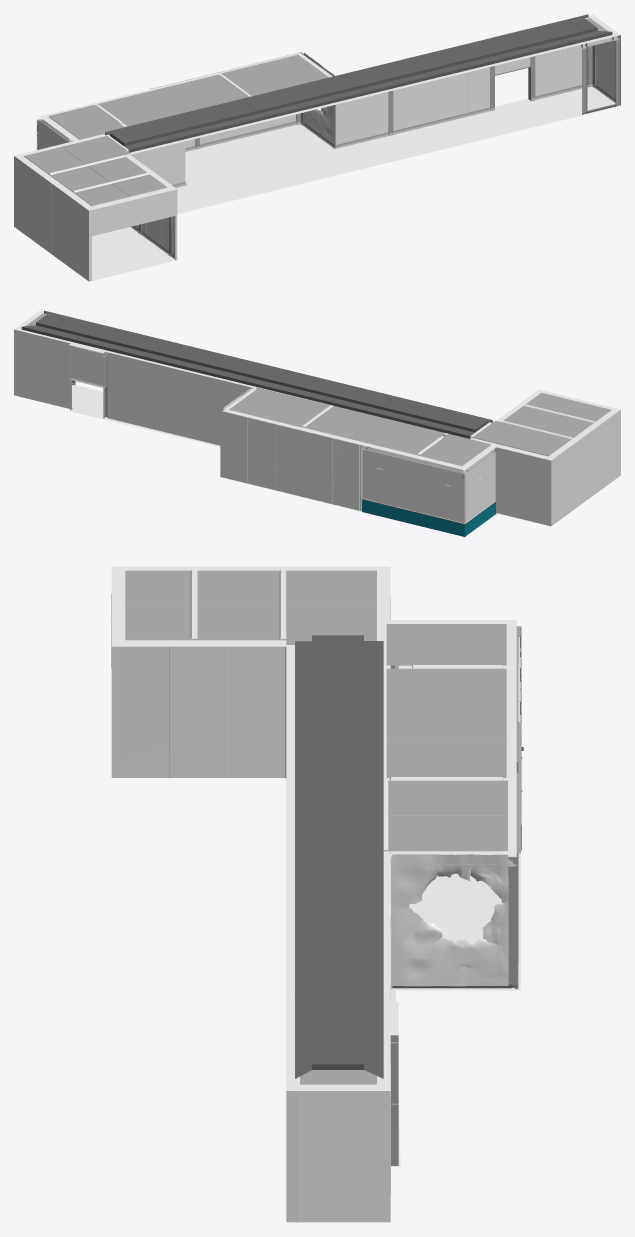
3 views of the same model, one above another, from view 1: azimuth 30°, elevation 25°; view 2: azimuth 150°, elevation 25°; view 3: azimuth 270°, elevation 25° (orthographic). The views are drawn at different scales.
Parts seen in each view (by area): view 1: SM_H_Building_FutureTech_HStairs_04_InterWall_01F; view 2: SM_H_Building_FutureTech_HStairs_04_InterWall_01F; view 3: SM_H_Building_FutureTech_HStairs_04_InterWall_01F.
Boxes of the visible parts, left/top/right/bottom form: SM_H_Building_FutureTech_HStairs_04_InterWall_01F: left=14, top=14, right=620, bottom=281; SM_H_Building_FutureTech_HStairs_04_InterWall_01F: left=14, top=310, right=620, bottom=537; SM_H_Building_FutureTech_HStairs_04_InterWall_01F: left=111, top=566, right=523, bottom=1222.
Bounding box in the file's own units: 550 × 1657 × 213.
